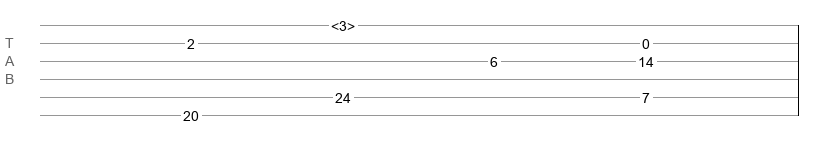0: (642, 36, 650, 46)
14: (638, 54, 654, 64)
2: (187, 36, 195, 46)
20: (183, 108, 199, 118)
24: (335, 90, 351, 100)
6: (490, 54, 498, 64)
7: (642, 90, 650, 100)
harmonic: (331, 18, 355, 28)
